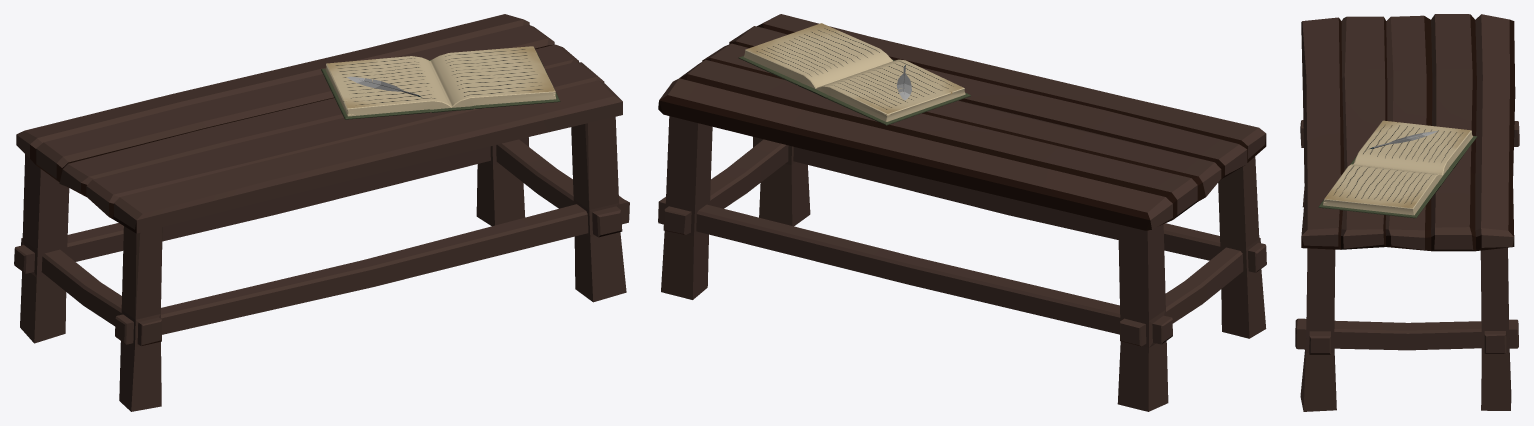
The model's file is LogBook_and_table01.fbx.
3 renders of one model, left to right at view 1: azimuth 30°, elevation 25°; view 2: azimuth 150°, elevation 25°; view 3: azimuth 270°, elevation 25°, orthographic. The views are drawn at different scales.
Visible parts, largest first — view 1: table01, Spellbook_Book; view 2: table01, Spellbook_Book; view 3: table01, Spellbook_Book, feather_bits.
Part boxes in pixels (bbox=[...]): table01: bbox=[14, 14, 629, 411]; Spellbook_Book: bbox=[321, 46, 560, 119]; table01: bbox=[658, 14, 1266, 411]; Spellbook_Book: bbox=[738, 23, 970, 125]; table01: bbox=[1295, 14, 1519, 411]; Spellbook_Book: bbox=[1318, 120, 1477, 218]; feather_bits: bbox=[1388, 131, 1437, 144].
Bounding box in the file's own units: 126 × 51.07 × 53.57.
